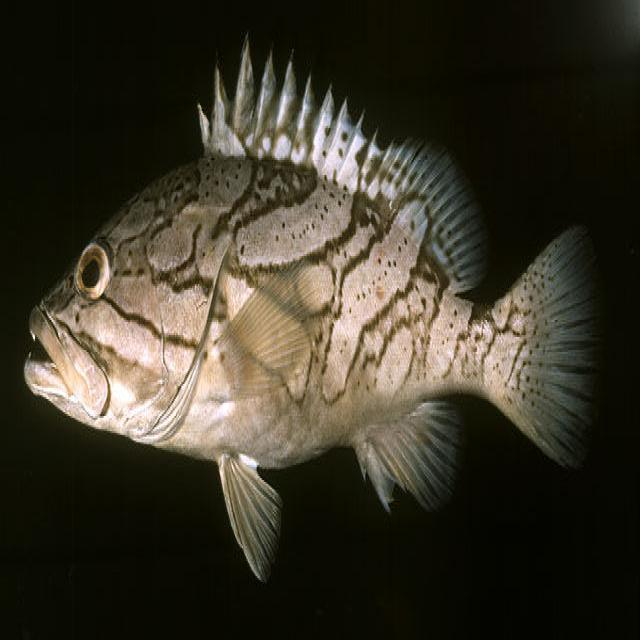ikan: (15, 22, 626, 596)
